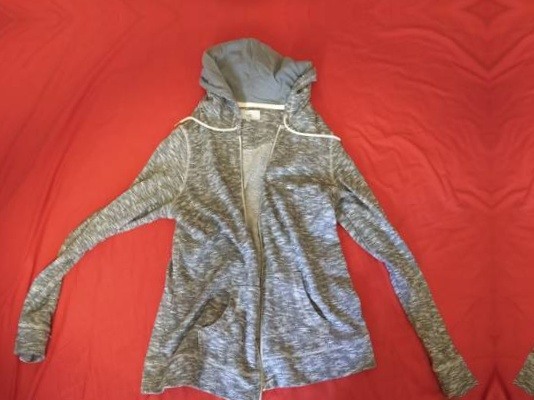Hoodie: (23, 23, 485, 400), (500, 12, 534, 400), (13, 0, 475, 5)
